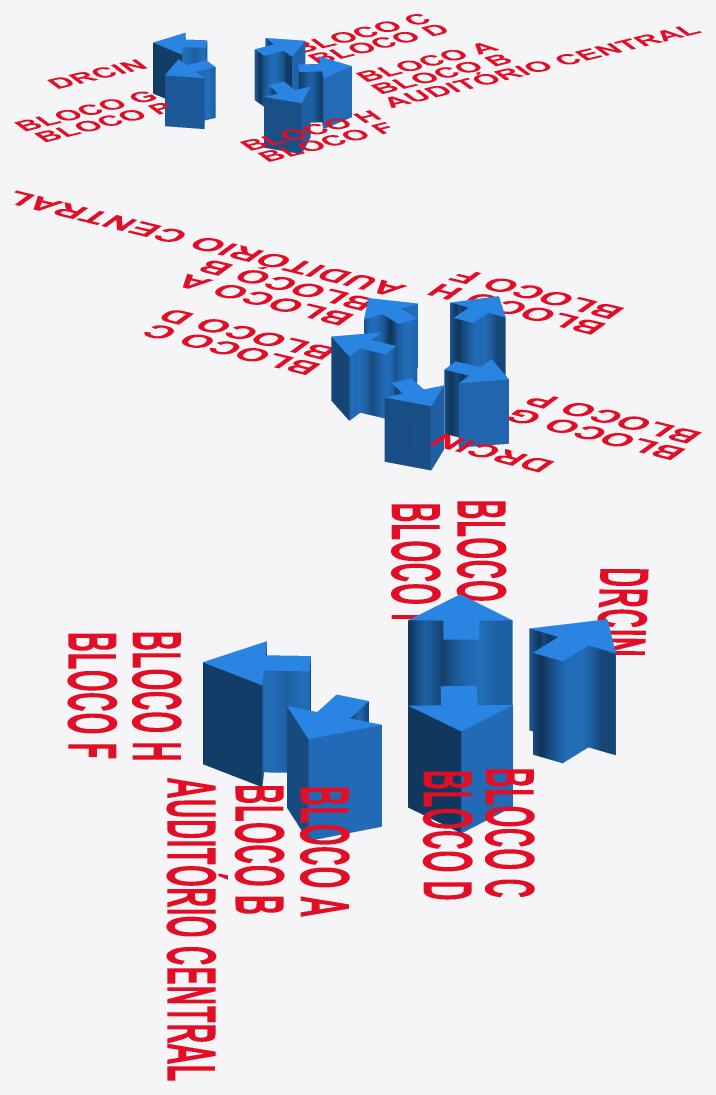
Rendered from bloco E - 0.glb.
3 views of the same model, one above another, from view 1: azimuth 30°, elevation 25°; view 2: azimuth 150°, elevation 25°; view 3: azimuth 270°, elevation 25° (orthographic). The views are drawn at different scales.
Parts seen in each view (by area): view 1: Curve.002, Curve.005, Curve.004, Curve.001, Text.004, Curve.003, Text.005, Text.003, Text.012, Text.002, Text.001, Text.008 (+3 smaller); view 2: Curve.002, Curve.001, Curve.003, Curve.004, Text.004, Curve.005, Text.003, Text.005, Text.008, Text.002, Text.001, Text.007 (+3 smaller); view 3: Curve.004, Curve.003, Curve.001, Curve.005, Curve.002, Text.004, Text.005, Text.008, Text.012, Text.002, Text.007, Text.013 (+3 smaller).
Boxes of the visible parts, x1,y1,x2,y2 form: Curve.002: [165, 59, 215, 128]; Curve.005: [298, 56, 351, 128]; Curve.004: [264, 81, 310, 153]; Curve.001: [254, 38, 305, 106]; Text.004: [388, 26, 701, 107]; Curve.003: [153, 32, 207, 98]; Text.005: [370, 54, 510, 93]; Text.003: [14, 91, 156, 131]; Text.012: [240, 110, 381, 150]; Text.002: [356, 43, 499, 81]; Text.001: [34, 103, 168, 141]; Text.008: [308, 24, 446, 63]; Curve.002: [444, 359, 508, 447]; Curve.001: [331, 332, 396, 420]; Curve.003: [384, 378, 443, 470]; Curve.004: [450, 296, 505, 374]; Text.004: [14, 190, 406, 294]; Curve.005: [364, 298, 417, 382]; Text.003: [508, 409, 685, 459]; Text.005: [200, 260, 370, 310]; Text.008: [161, 310, 331, 359]; Text.002: [183, 274, 353, 325]; Text.001: [526, 396, 701, 443]; Text.007: [144, 325, 320, 374]; Curve.004: [203, 641, 310, 785]; Curve.003: [529, 619, 615, 763]; Curve.001: [408, 686, 512, 832]; Curve.005: [287, 694, 381, 839]; Curve.002: [408, 594, 512, 705]; Text.004: [166, 778, 227, 1080]; Text.005: [234, 786, 284, 913]; Text.008: [422, 771, 472, 899]; Text.012: [132, 632, 181, 759]; Text.002: [300, 787, 349, 916]; Text.007: [485, 769, 534, 897]; Text.013: [67, 633, 117, 758].
Size of the model in its own units: 4.33 by 0.3613 by 1.81.
